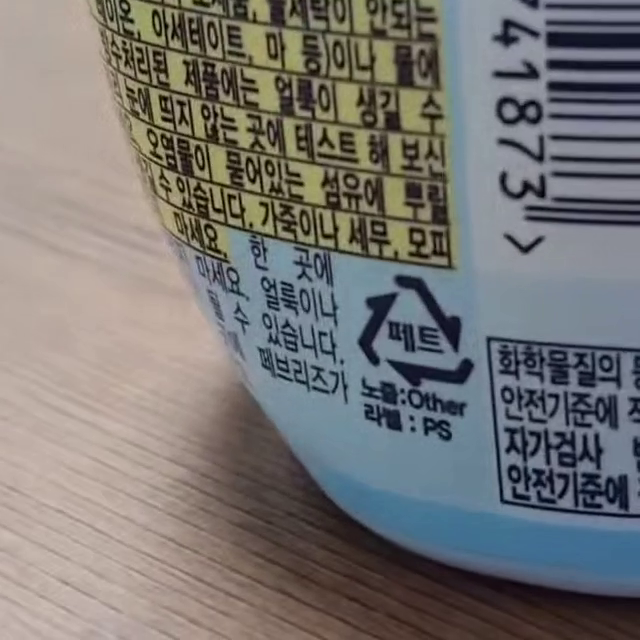Plastic: (357, 275, 475, 391)
